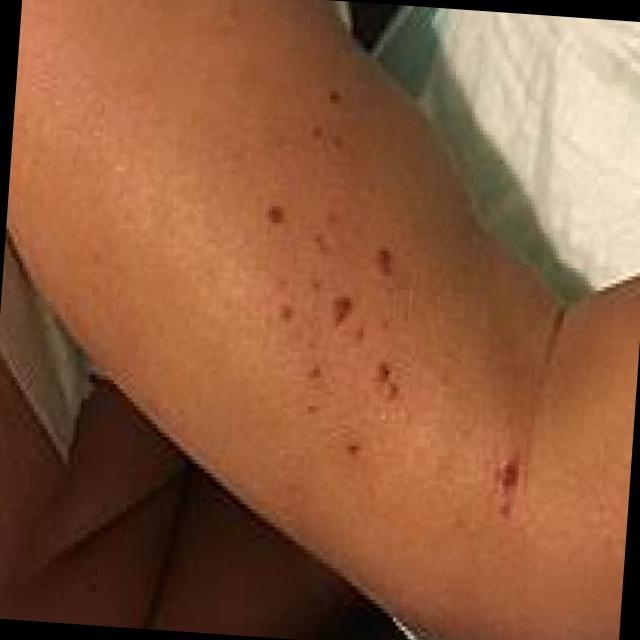Eczema: (254, 92, 524, 505)
